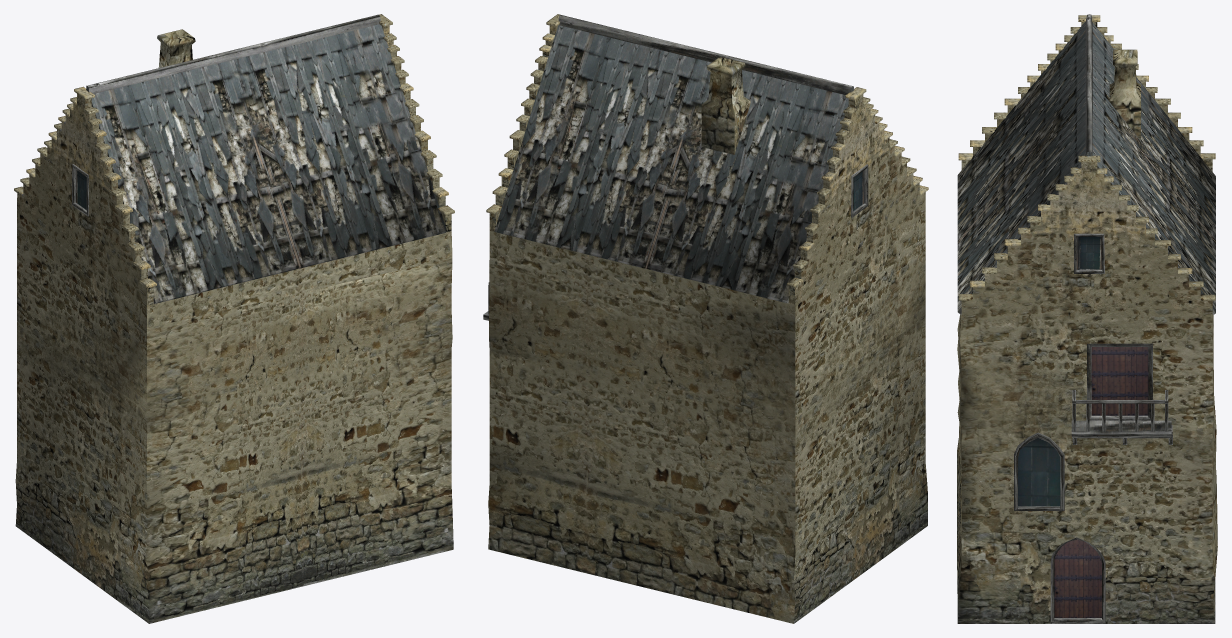
Rendered from medhouse17.fbx.
3 views of the same model, side by side, from view 1: azimuth 30°, elevation 25°; view 2: azimuth 150°, elevation 25°; view 3: azimuth 270°, elevation 25° (orthographic). The views are drawn at different scales.
Parts seen in each view (by area): view 1: medhouse17; view 2: medhouse17; view 3: medhouse17.
Part boxes in pixels (box(x1,y1,x2,y2)): medhouse17: box(14, 14, 454, 623); medhouse17: box(483, 14, 928, 623); medhouse17: box(957, 14, 1217, 623).
Bounding box in the file's own units: 1054 × 1503 × 739.
